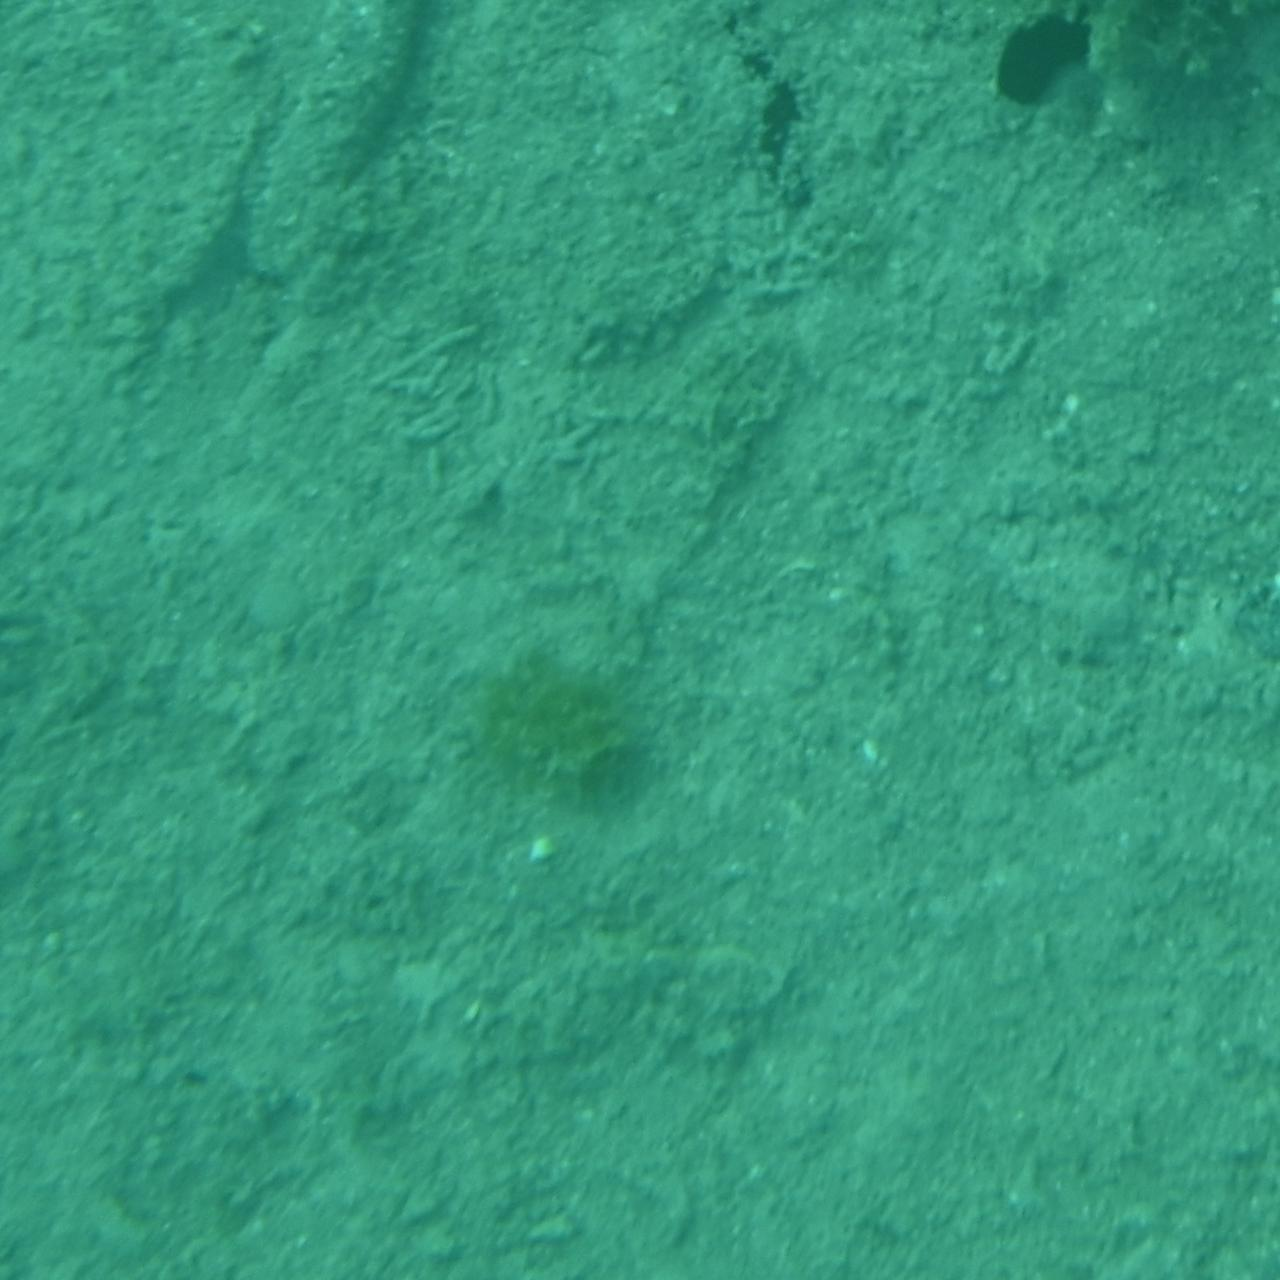Holothuria tubulosa: (974, 1053, 1280, 1280), (256, 1122, 670, 1280), (225, 0, 428, 293), (1112, 322, 1280, 538), (1089, 539, 1280, 712), (0, 0, 307, 83)
Phaeophyceae -cfr Cystoseira-: (1014, 0, 1280, 264)
